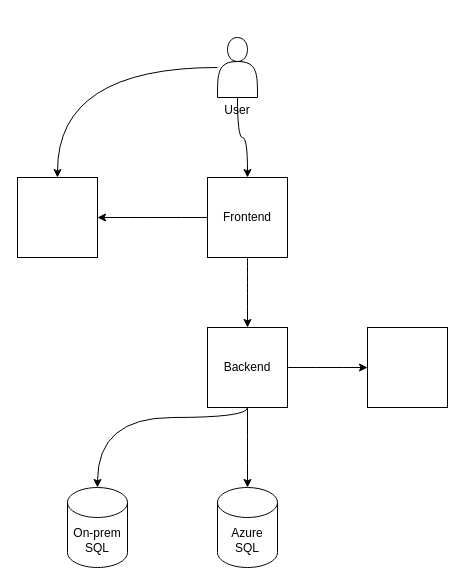
The diagram is 465 pixels wide and 585 high, and some of its shapes have lost their labels. The centre of each missing label's shape, as x and y in pixels:
"Company data platform (dependency)" belongs at (x=407, y=367).
"Power BI reports" belongs at (x=57, y=217).
